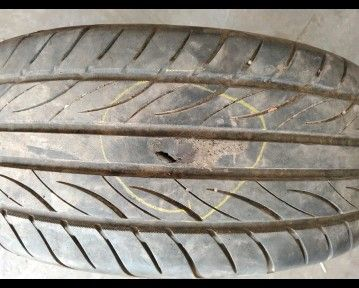tr: (150, 149, 181, 166)
